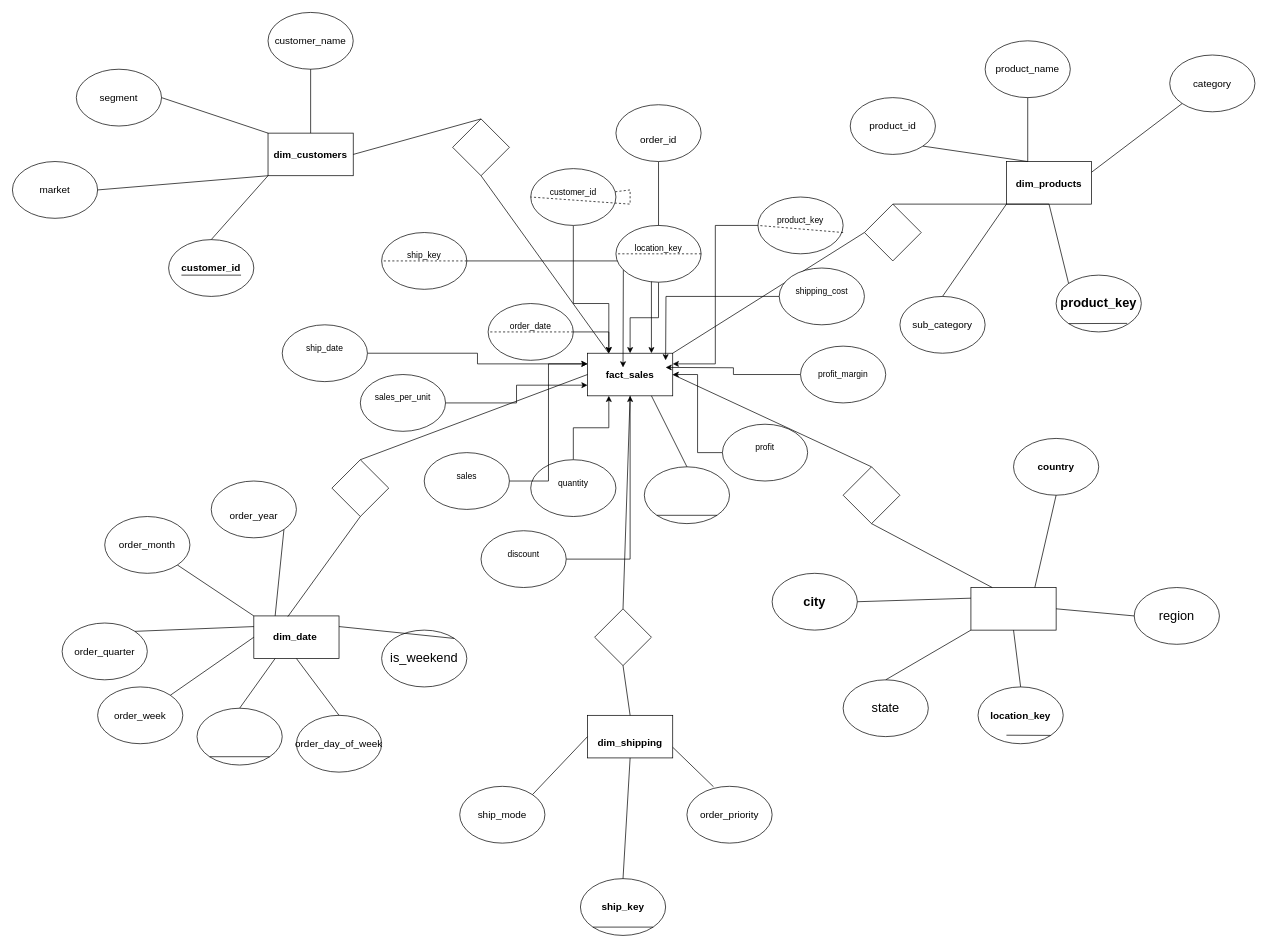
Image size: 1267x948. Some labels were removed from this diagram. The centre of each missing label's shape, as x and y in pixels:
"Customer Places Order" belongs at (x=480, y=147).
"date_key" belongs at (x=239, y=736).
"dim_location" belongs at (x=1013, y=608).
"Order Happens On Date" belongs at (x=360, y=488).
"Order Occurs In Location" belongs at (x=871, y=495).
"Order Shipped Via" belongs at (x=622, y=637).
"Product Sold In Orde" belongs at (x=892, y=232).
"row_id" belongs at (x=687, y=495).
